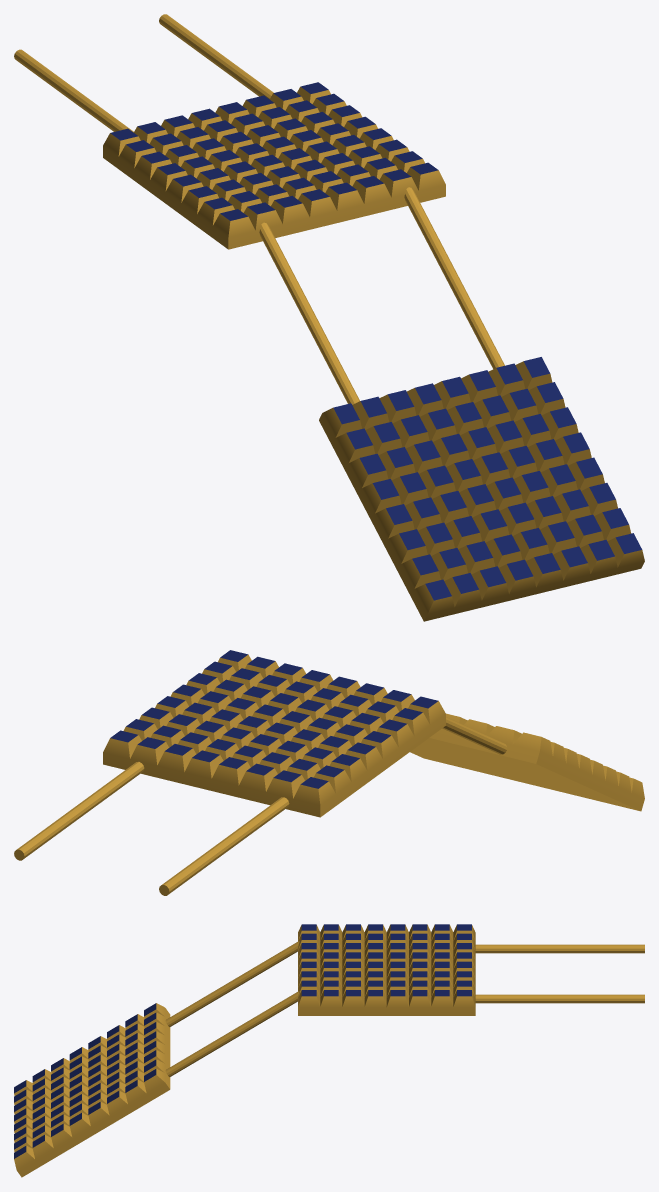
File: Satelite_Ala_Izq.obj
The picture shows the model from 3 angles, top to bottom: view 1: azimuth 30°, elevation 25°; view 2: azimuth 150°, elevation 25°; view 3: azimuth 270°, elevation 25°; orthographic projection. The views are drawn at different scales.
Visible parts, largest first — view 1: Satelite_Ala_Izq; view 2: Satelite_Ala_Izq; view 3: Satelite_Ala_Izq.
Part boxes in pixels (x1=…): Satelite_Ala_Izq: x1=14, y1=14, x2=644, y2=621; Satelite_Ala_Izq: x1=14, y1=650, x2=644, y2=895; Satelite_Ala_Izq: x1=14, y1=924, x2=644, y2=1177.
Bounding box in the file's own units: 3.17 × 3.54 × 11.26.
